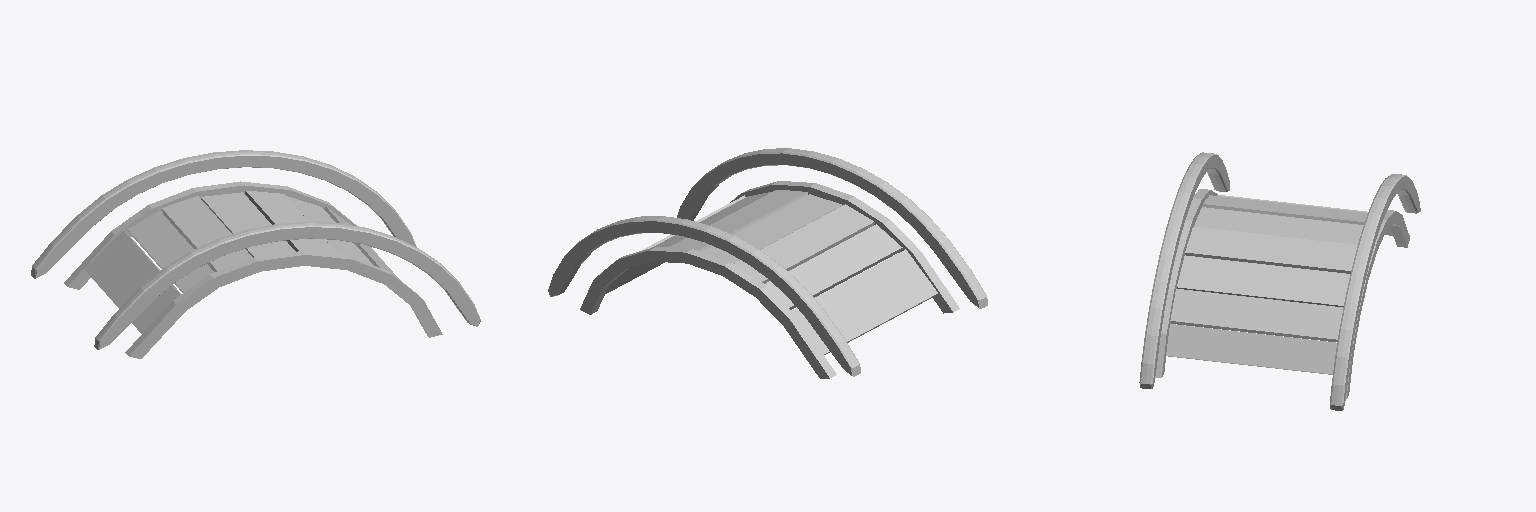
File: Bridge_01.obj
The picture shows the model from 3 angles: view 1: azimuth 30°, elevation 25°; view 2: azimuth 150°, elevation 25°; view 3: azimuth 270°, elevation 25°; orthographic projection.
Visible parts, largest first — view 1: bridge2; view 2: bridge2; view 3: bridge2.
Part boxes in pixels (x1,y1,x2,y2): bridge2: (31,150,480,358); bridge2: (548,148,987,378); bridge2: (1139,152,1420,410).
Size of the model in its own units: 6.63 by 2.31 by 4.27.